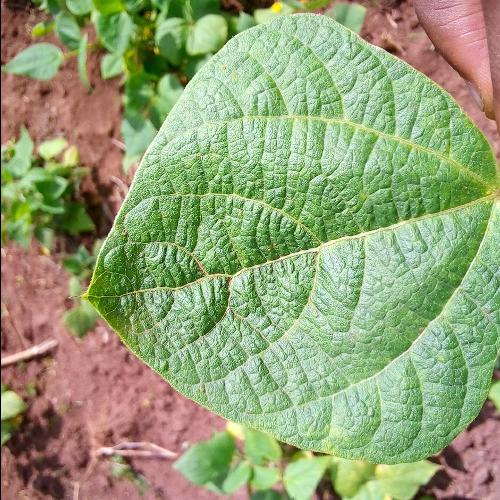mozaik: (226, 66, 452, 424)
